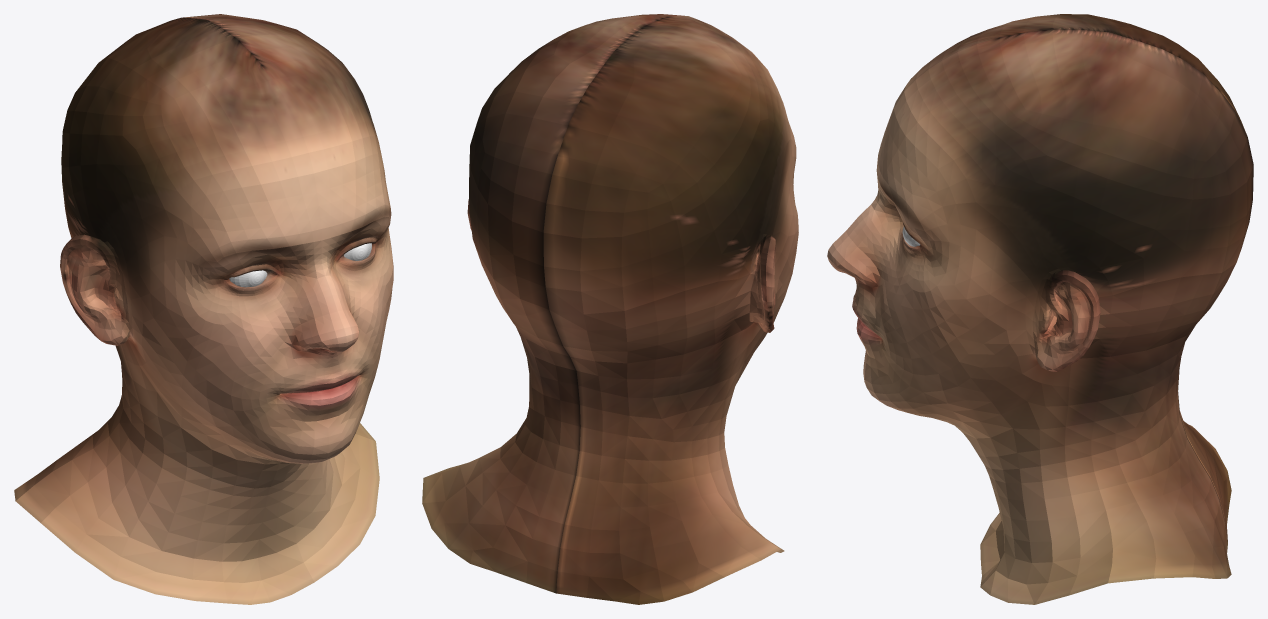
The model's file is custom.obj.
The picture shows the model from 3 angles, left to right: view 1: azimuth 30°, elevation 25°; view 2: azimuth 150°, elevation 25°; view 3: azimuth 270°, elevation 25°; orthographic projection. The views are drawn at different scales.
Parts seen in each view (by area): view 1: custom.mtl_Head, custom.mtl_Eyes; view 2: custom.mtl_Head; view 3: custom.mtl_Head.
Part boxes in pixels (bbox=[...]): custom.mtl_Head: bbox=[14, 14, 393, 604]; custom.mtl_Eyes: bbox=[229, 243, 371, 287]; custom.mtl_Head: bbox=[422, 14, 798, 604]; custom.mtl_Head: bbox=[827, 14, 1253, 604].
Bounding box in the file's own units: 0.2073 × 0.3136 × 0.2217.
